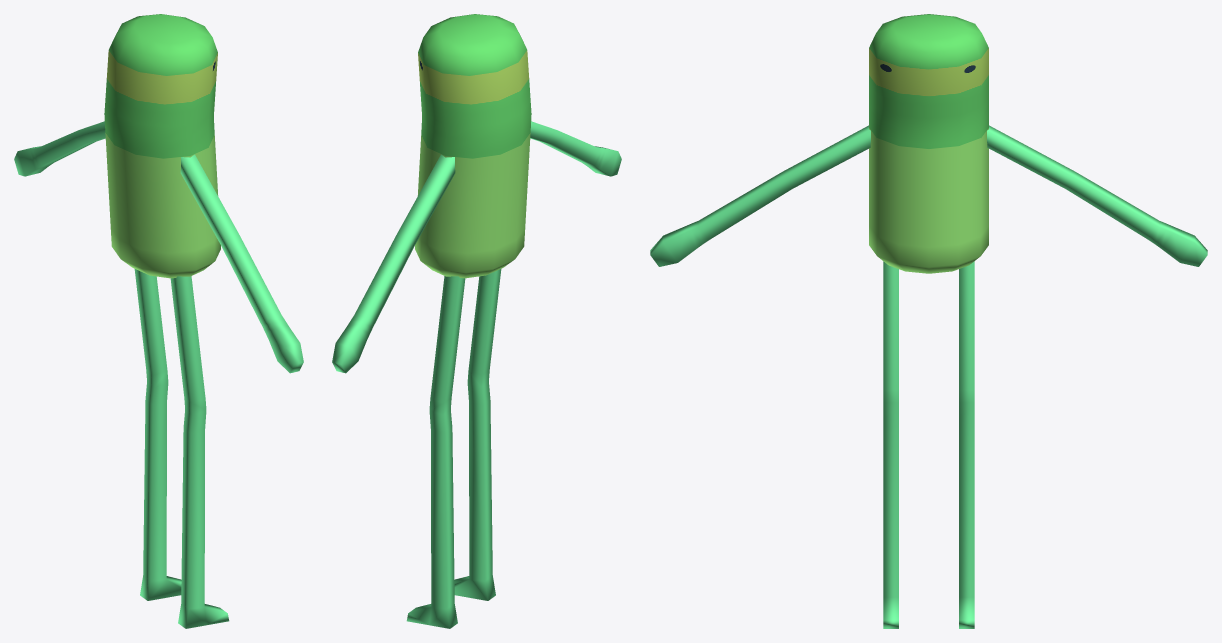
File: avatars_tposing_tall_dude.glb
3 renders of one model, left to right at view 1: azimuth 30°, elevation 25°; view 2: azimuth 150°, elevation 25°; view 3: azimuth 270°, elevation 25°, orthographic.
Visible parts, largest first — view 1: mesh_char_13; view 2: mesh_char_13; view 3: mesh_char_13.
Part boxes in pixels (bbox=[...]): mesh_char_13: bbox=[14, 14, 303, 628]; mesh_char_13: bbox=[332, 14, 621, 628]; mesh_char_13: bbox=[650, 14, 1207, 628].
Bounding box in the file's own units: 1.24 × 7 × 6.08.
Materials: 1 (1 with a texture image).
